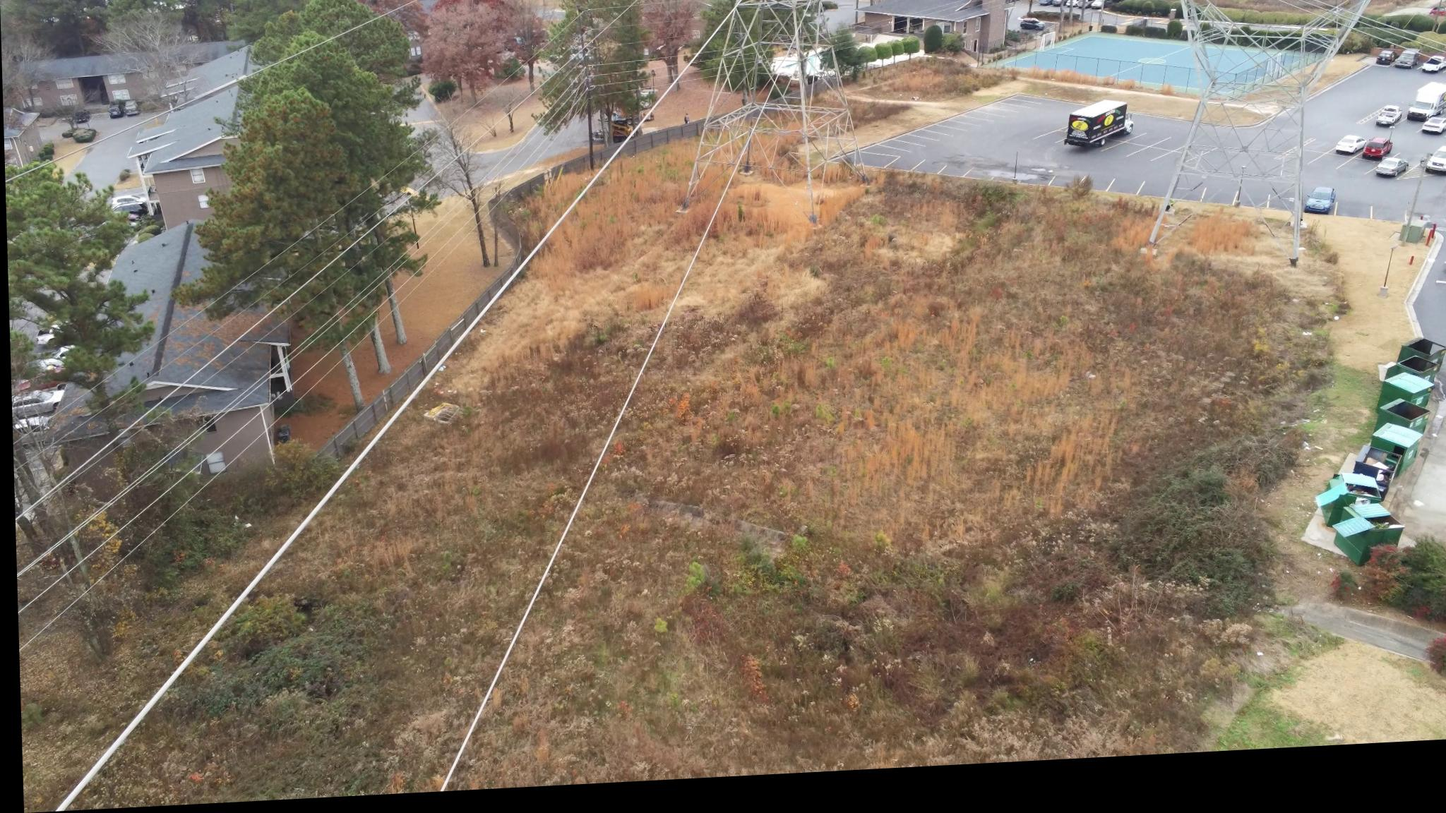tower: (208, 119, 1264, 281)
